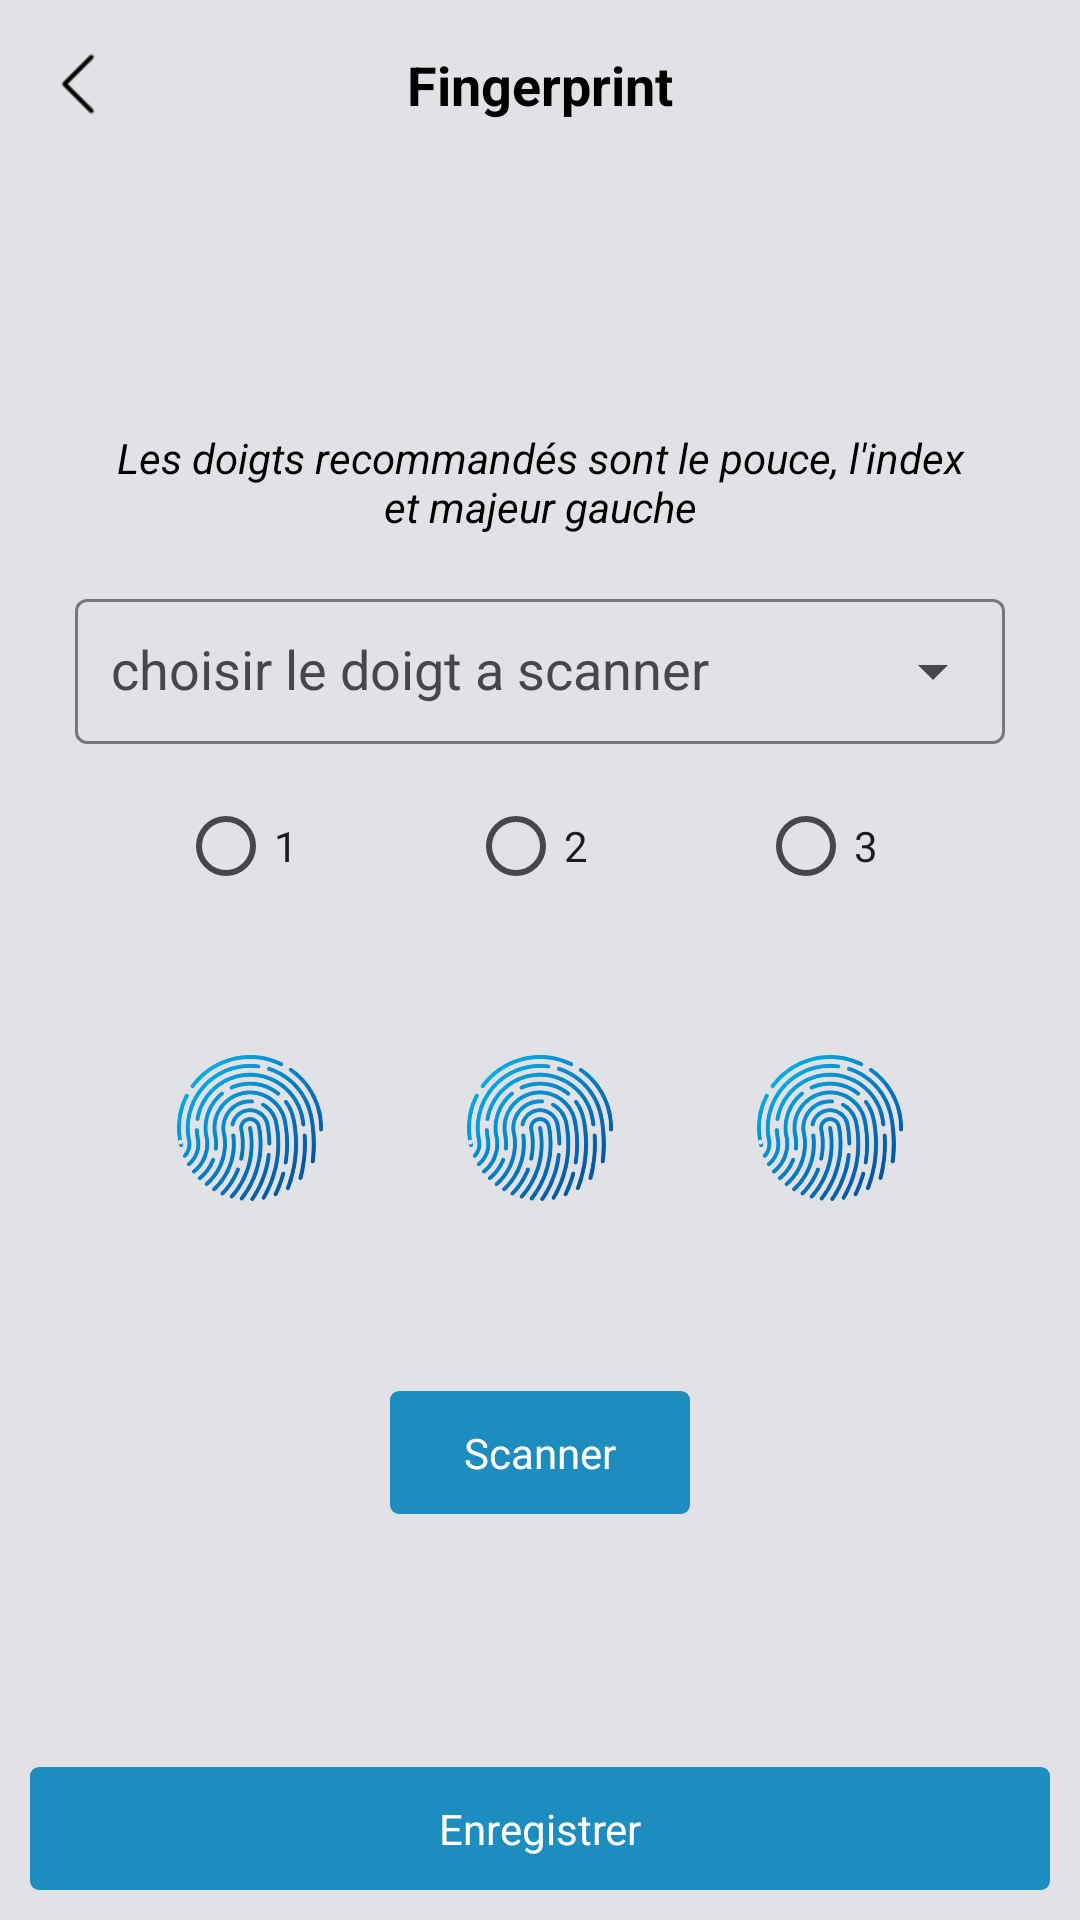

Locate icon controls on the screen. Image size 1080 x 1920, boxes as [x1, y1, x2, y2].
back: [61, 54, 95, 114]
